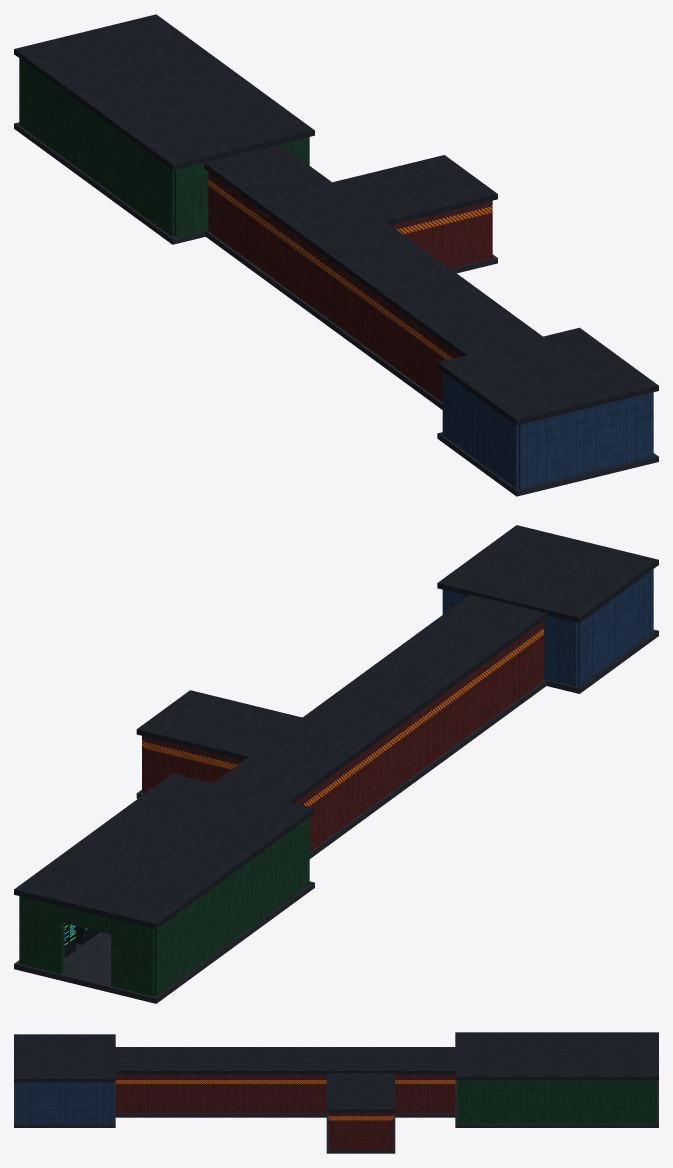
Rendered from w_hall.glb.
The picture shows the model from 3 angles, top to bottom: view 1: azimuth 30°, elevation 25°; view 2: azimuth 150°, elevation 25°; view 3: azimuth 270°, elevation 25°; orthographic projection. The views are drawn at different scales.
Visible parts, largest first — view 1: Hall; view 2: Hall; view 3: Hall.
Boxes of the visible parts, box(x1,y1,x2,y2) form: Hall: box(14, 14, 658, 496); Hall: box(14, 525, 658, 1003); Hall: box(14, 1032, 658, 1153).
Bounding box in the file's own units: 13.6 × 4.6 × 52.6.
15 materials, 15 textured.
